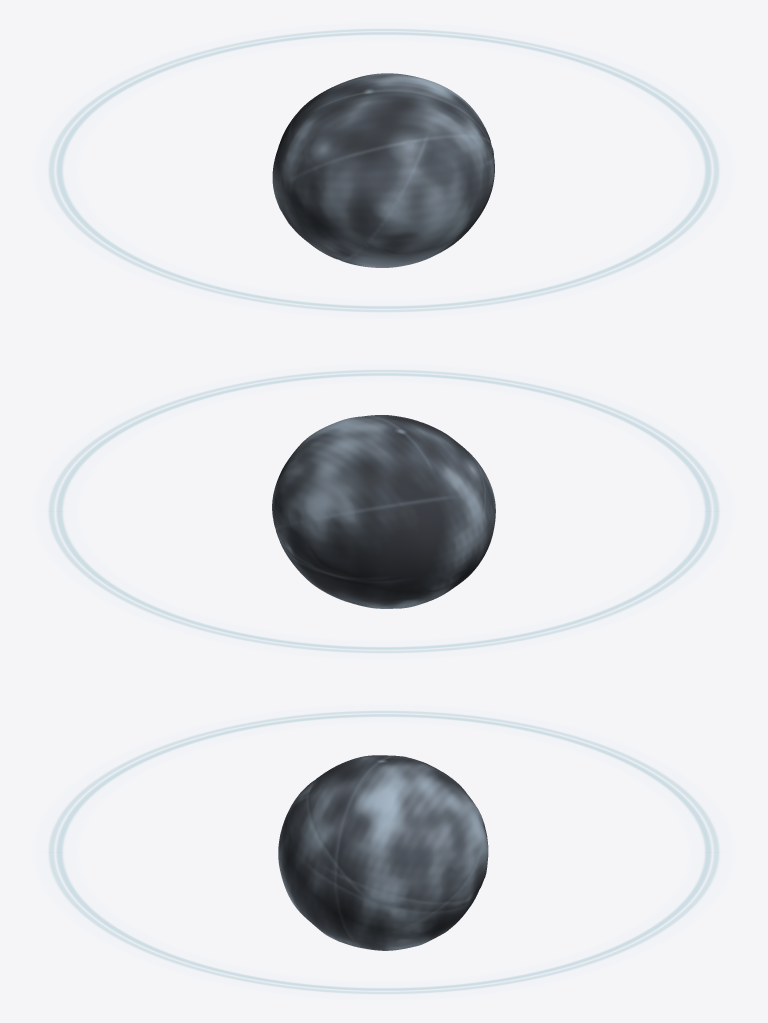
File: chiron.glb
The picture shows the model from 3 angles, top to bottom: view 1: azimuth 30°, elevation 25°; view 2: azimuth 150°, elevation 25°; view 3: azimuth 270°, elevation 25°; orthographic projection.
Visible parts, largest first — view 1: chiron_body, chiron_rings; view 2: chiron_body, chiron_rings; view 3: chiron_body, chiron_rings.
Boxes of the visible parts, box(x1,y1,x2,y2) form: chiron_body: box(272, 73, 494, 267); chiron_rings: box(48, 28, 719, 312); chiron_body: box(272, 415, 495, 608); chiron_rings: box(48, 369, 719, 653); chiron_body: box(278, 755, 488, 950); chiron_rings: box(48, 710, 719, 994).
Bounding box in the file's own units: 6.76 × 1.72 × 6.76.
2 materials, 2 textured.
